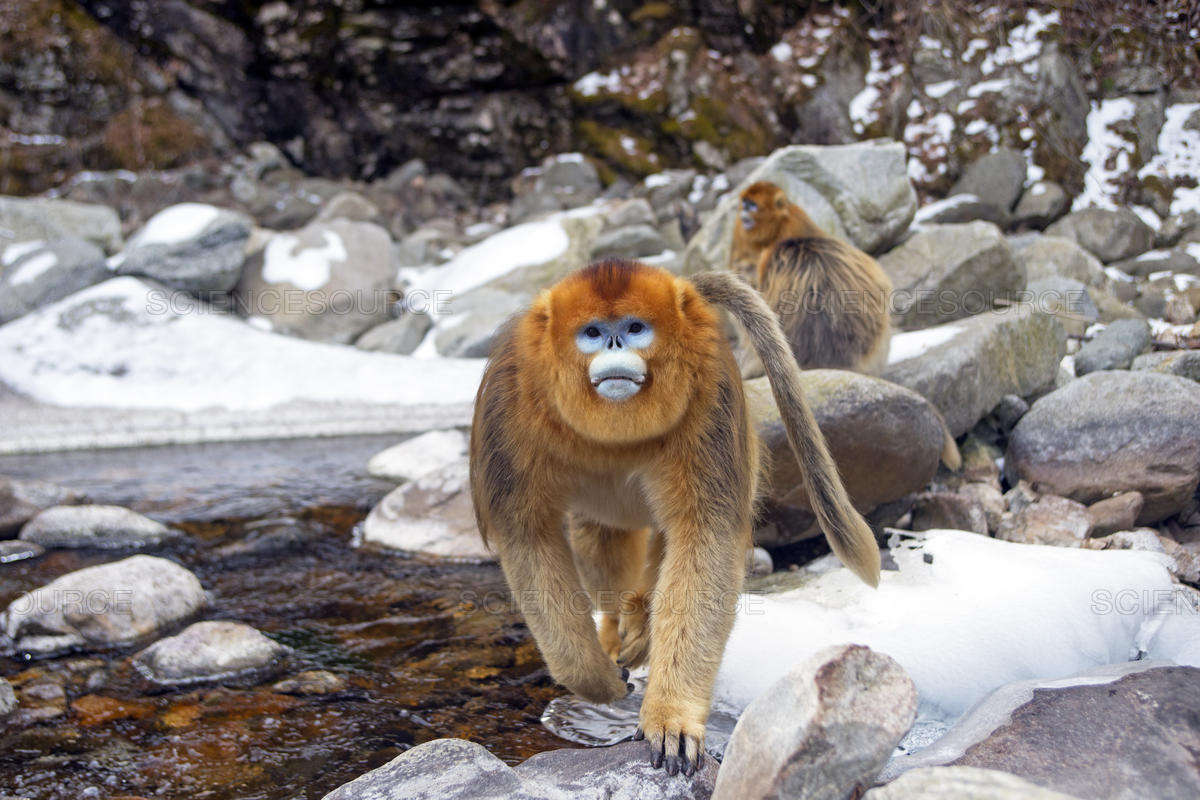GoldenSnub-Nosed: (461, 250, 780, 739), (728, 181, 821, 285)
